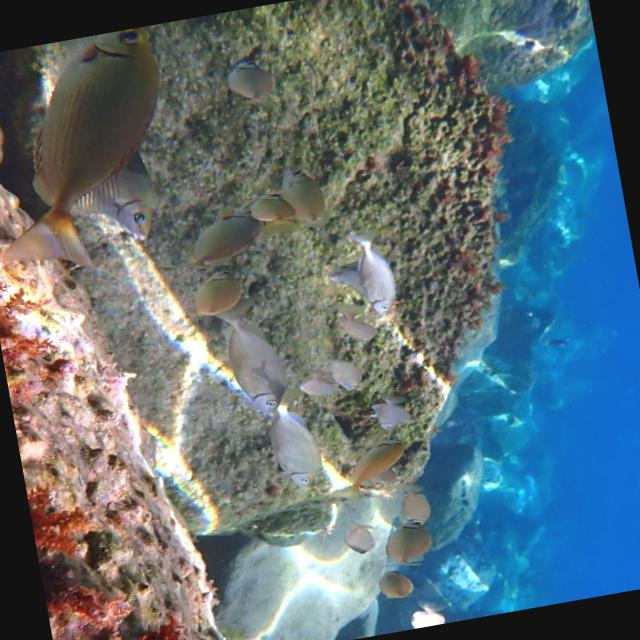Sokar Baligi: (256, 394, 332, 502), (341, 221, 404, 322), (210, 47, 288, 122)
